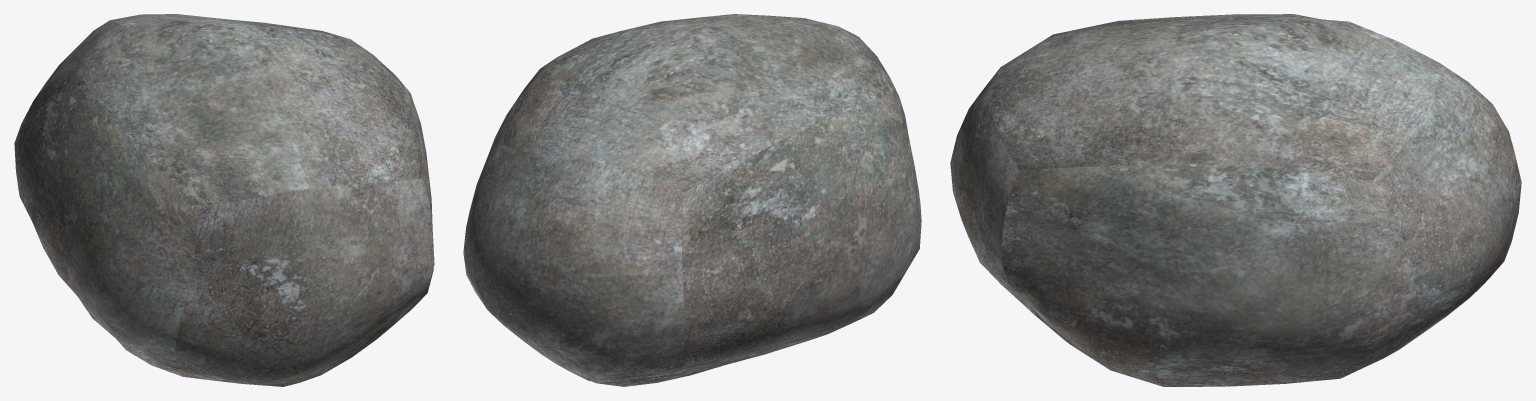
File: Batu.fbx
3 renders of one model, left to right at view 1: azimuth 30°, elevation 25°; view 2: azimuth 150°, elevation 25°; view 3: azimuth 270°, elevation 25°, orthographic. The views are drawn at different scales.
Parts seen in each view (by area): view 1: Cube; view 2: Cube; view 3: Cube.
Boxes of the visible parts, left/top/right/bottom form: Cube: left=14, top=14, right=434, bottom=386; Cube: left=463, top=14, right=921, bottom=386; Cube: left=950, top=14, right=1521, bottom=386.
Bounding box in the file's own units: 120 × 99.14 × 159.
